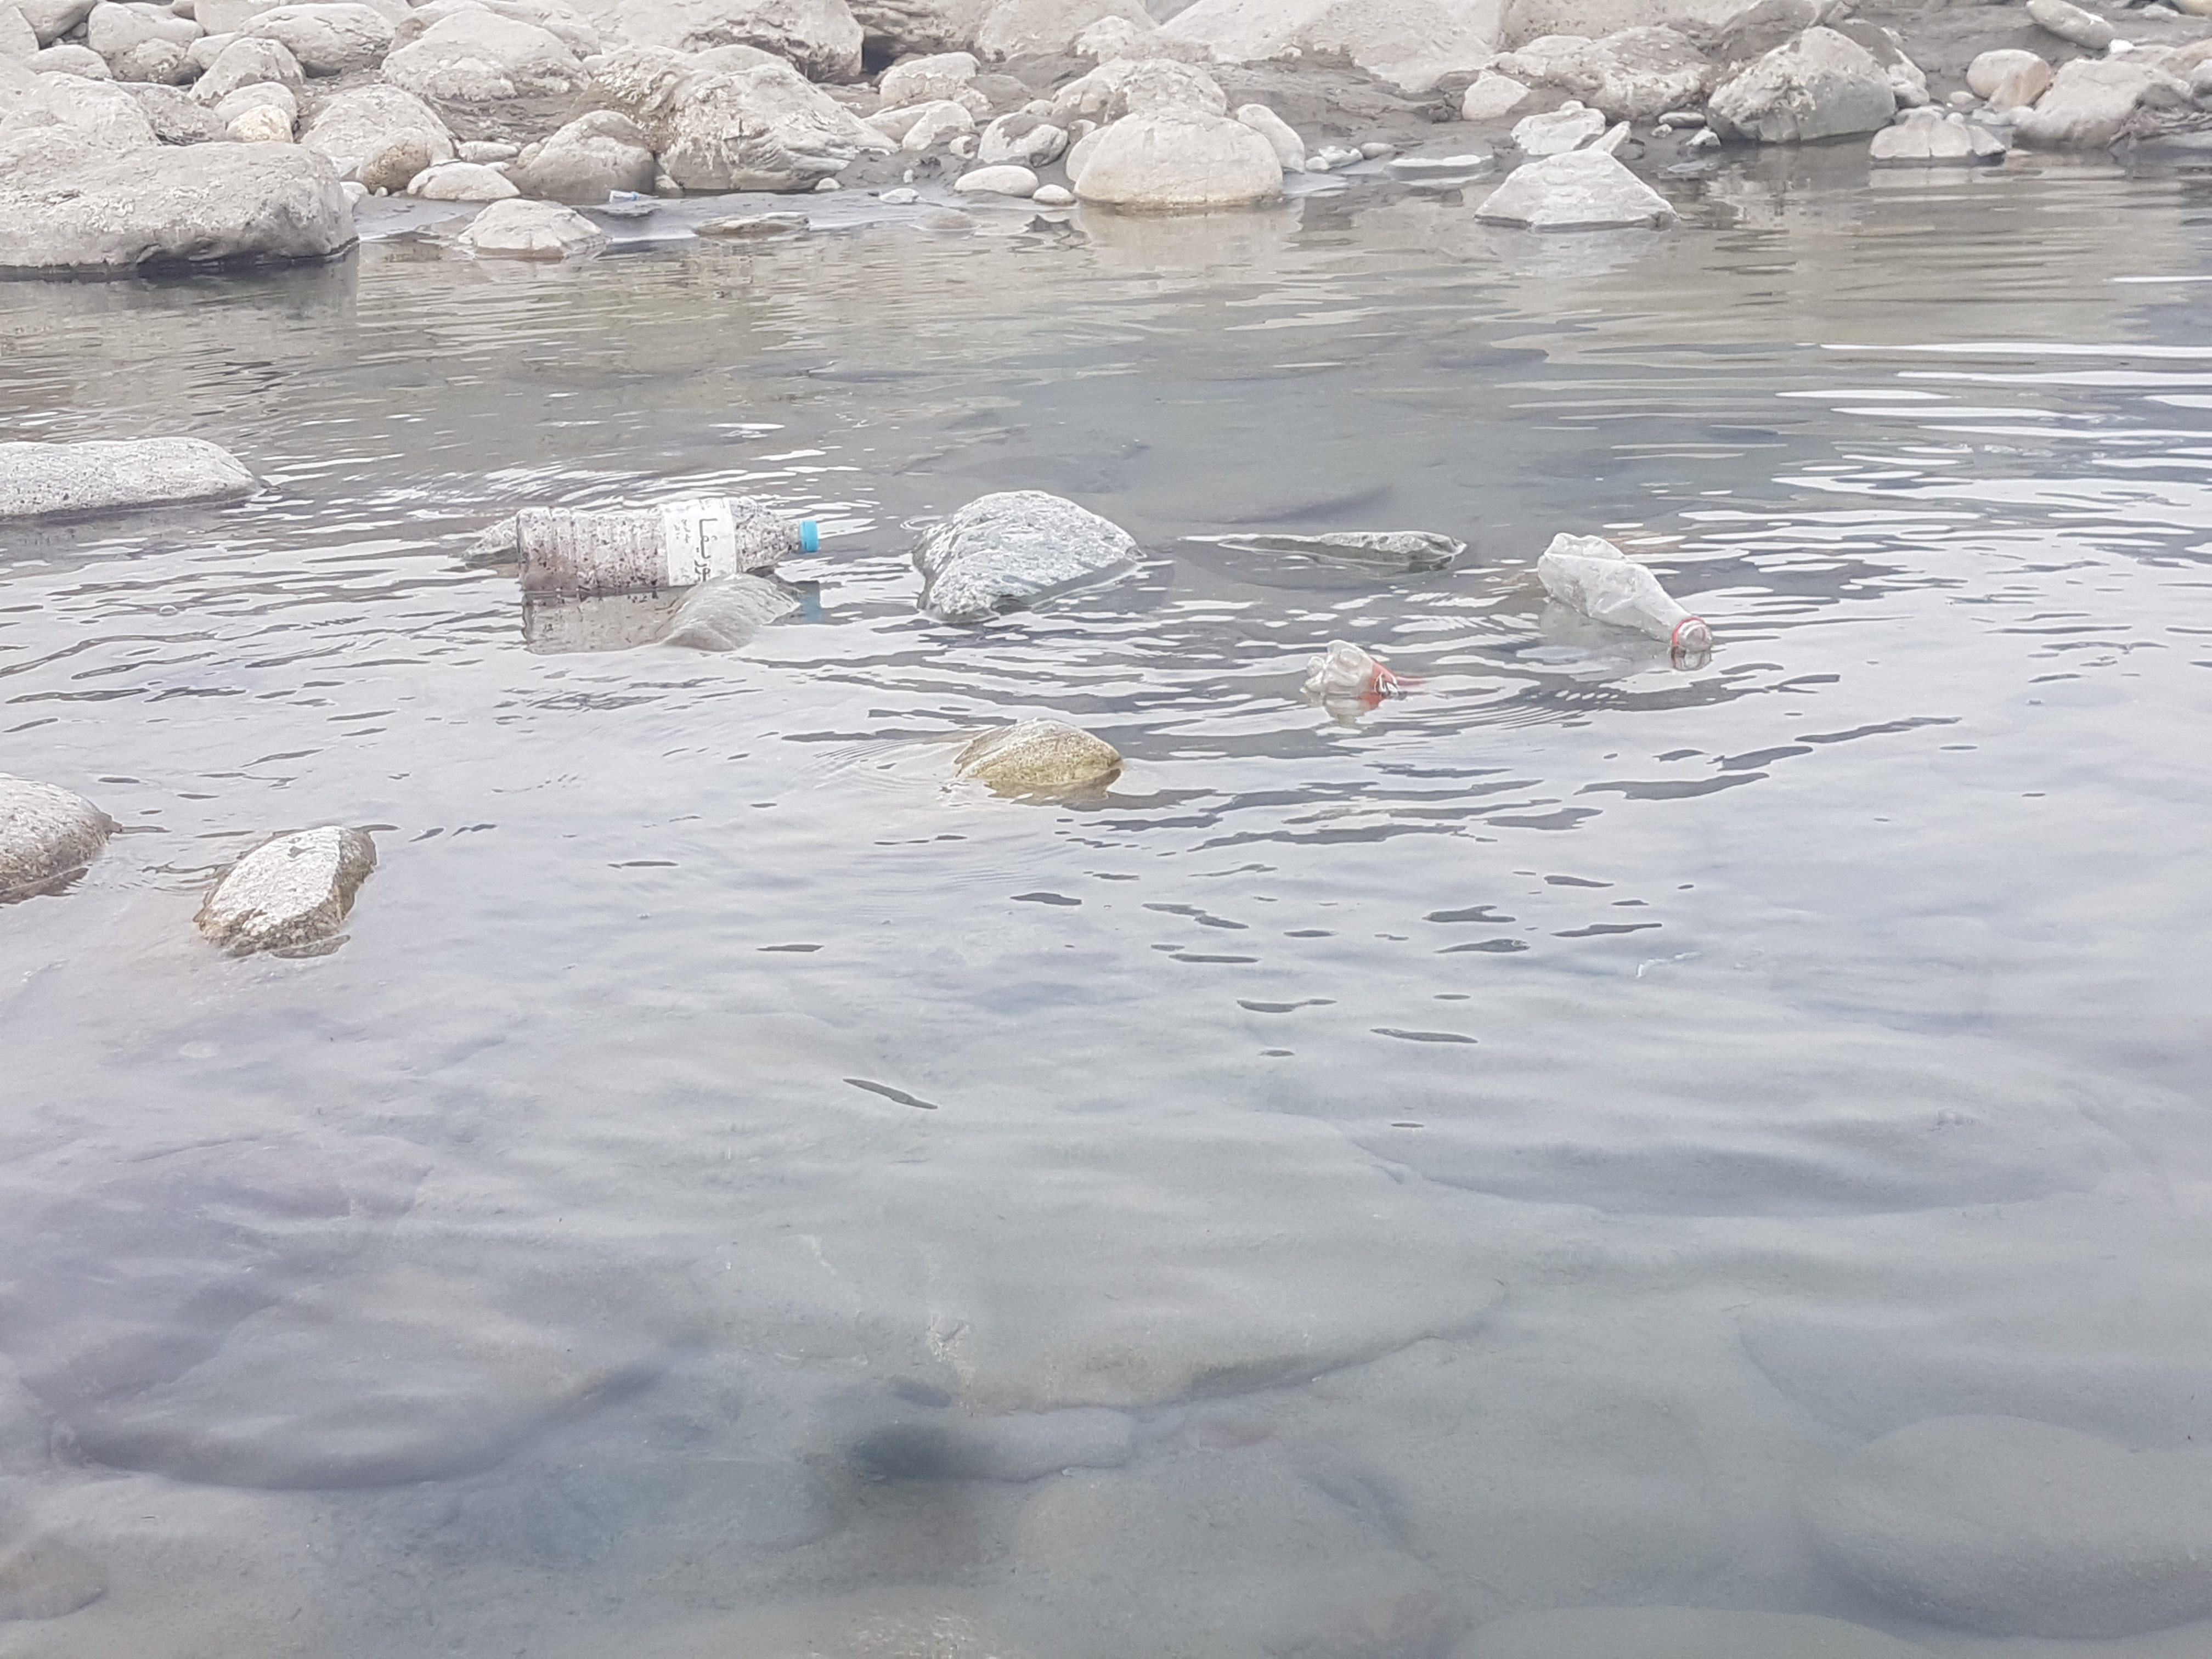Plastic Bottle: (516, 495, 819, 591), (1538, 532, 1714, 650), (1305, 640, 1404, 695), (610, 190, 658, 202)
